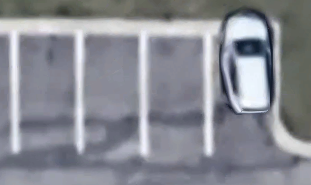Occupied: (209, 28, 273, 155)
Vacant: (78, 29, 144, 156), (144, 28, 209, 155), (14, 28, 78, 156)
